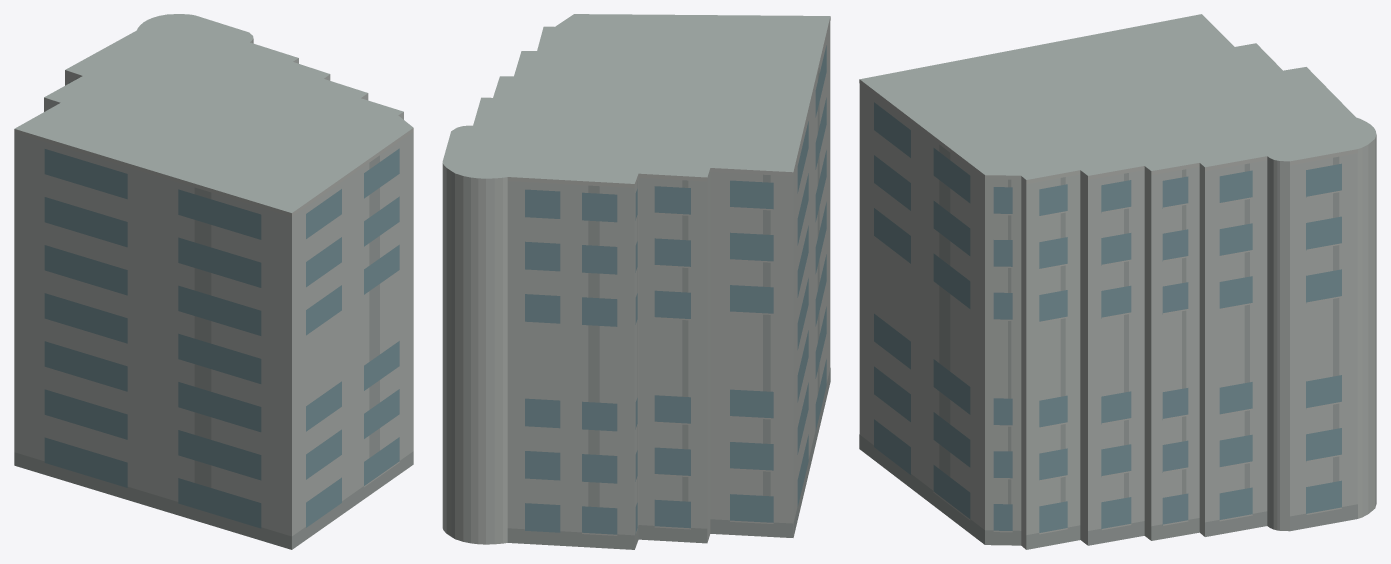
The model's file is survey-upis-32835846.glb.
The picture shows the model from 3 angles, left to right: view 1: azimuth 30°, elevation 25°; view 2: azimuth 150°, elevation 25°; view 3: azimuth 270°, elevation 25°; orthographic projection. The views are drawn at different scales.
Visible parts, largest first — view 1: survey-upis-32835846.tmp; view 2: survey-upis-32835846.tmp; view 3: survey-upis-32835846.tmp.
Part boxes in pixels (left/top/right/bottom): survey-upis-32835846.tmp: left=14, top=14, right=413, bottom=549; survey-upis-32835846.tmp: left=442, top=14, right=830, bottom=549; survey-upis-32835846.tmp: left=859, top=14, right=1376, bottom=549.
Bounding box in the file's own units: 20.83 × 21.62 × 27.39.
